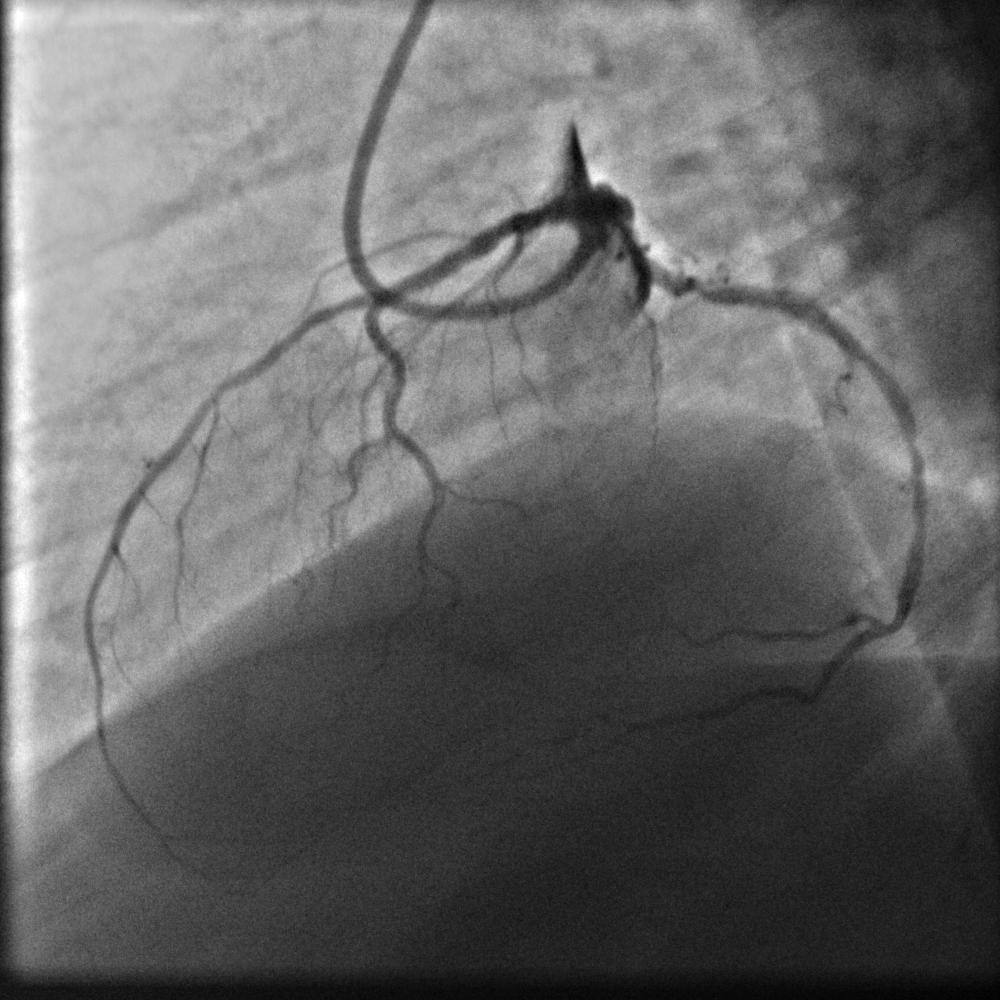Stenosis: (693, 276, 710, 301)
